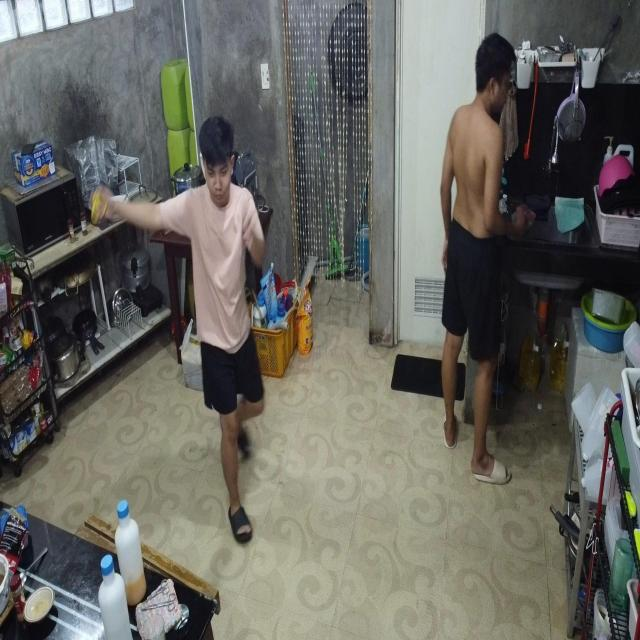scissor: (140, 591, 176, 611), (146, 579, 169, 602)
